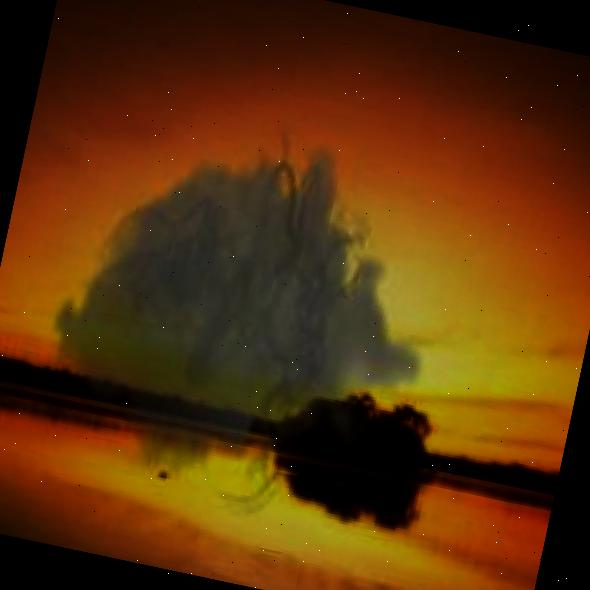smoke: (17, 84, 468, 553)
